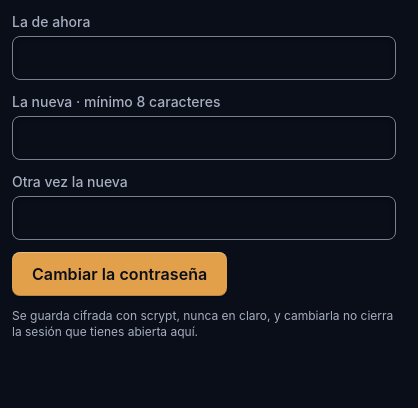
Test: Cambiar la contraseña › manda la de ahora junto a la nueva
The width and height of the screenshot is (418, 408).
Type "la-de-siempre" into the password field labelled "La de ahora".
click(204, 58); type("la-de-siempre")  # box [12,36,396,80]
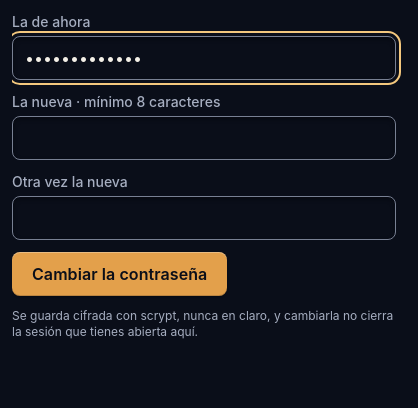
Type "una-nueva-larga" into the password field labelled "La nueva · mínimo 8 caracteres".
click(204, 138); type("una-nueva-larga")  # box [12,116,396,160]
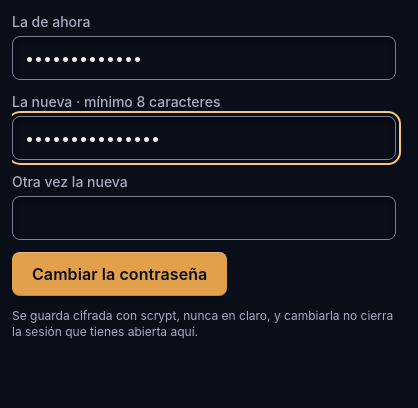
Type "una-nueva-larga" into the password field labelled "Otra vez la nueva".
click(204, 218); type("una-nueva-larga")  # box [12,196,396,240]
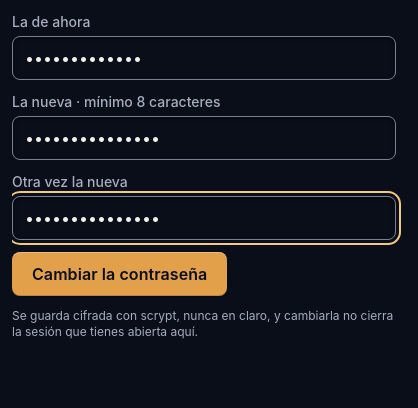
Click the button "Cambiar la contraseña".
click(120, 274)  # box [12,252,227,296]
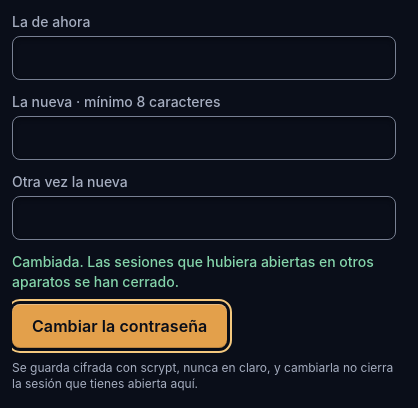
Check: the text "Cambiada" is shown, box [12,253,374,290]
